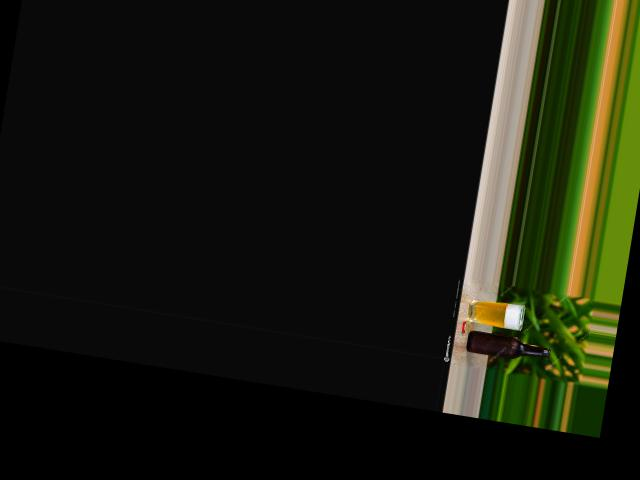beer: (465, 329, 551, 363)
